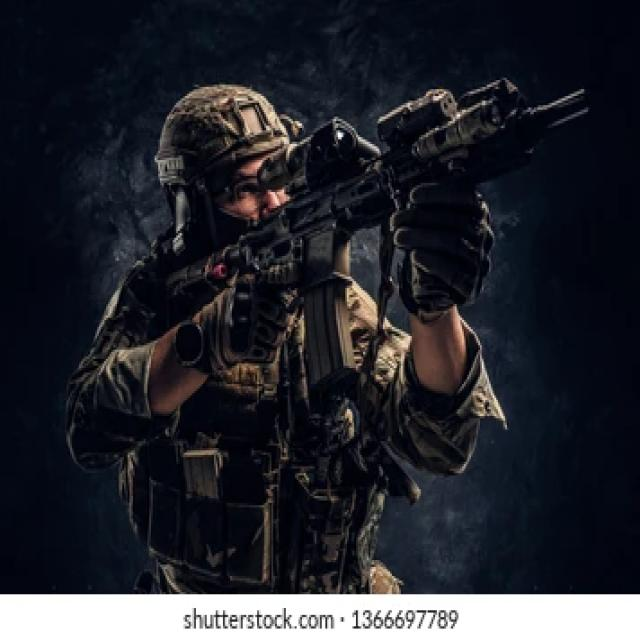soldier: (52, 79, 604, 592)
